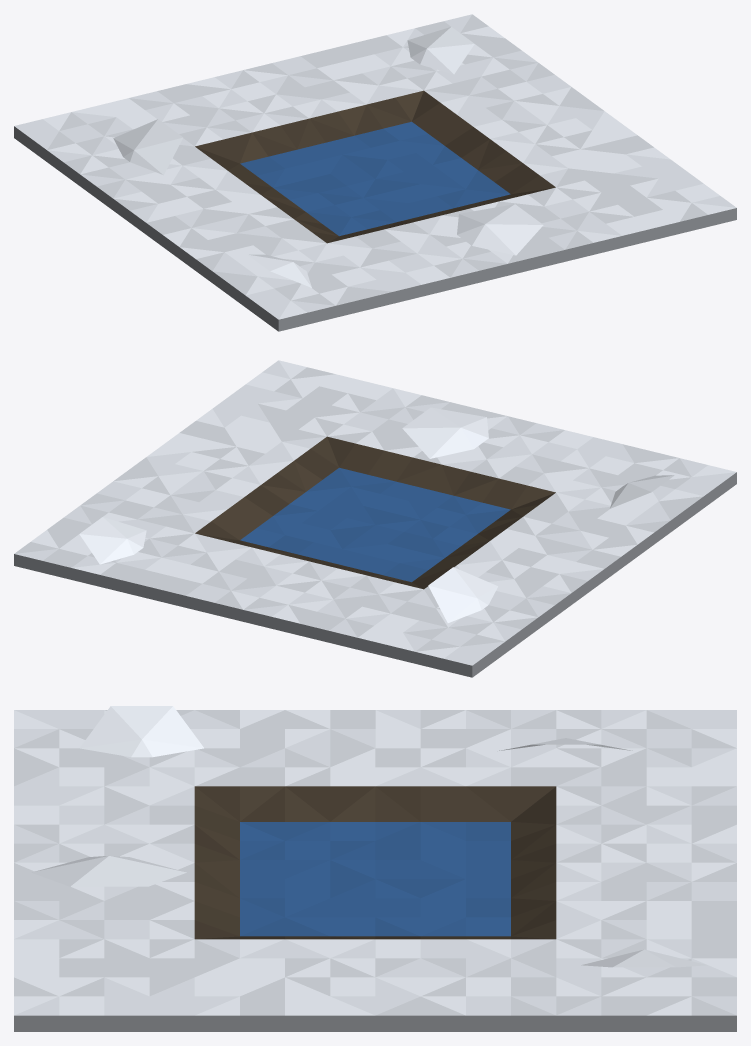
The model's file is river_pool_snow.glb.
3 views of the same model, one above another, from view 1: azimuth 30°, elevation 25°; view 2: azimuth 150°, elevation 25°; view 3: azimuth 270°, elevation 25° (orthographic). The views are drawn at different scales.
Parts seen in each view (by area): view 1: river_pool_snow; view 2: river_pool_snow; view 3: river_pool_snow.
Boxes of the visible parts, box(x1,y1,x2,y2) form: river_pool_snow: box(14, 14, 736, 331); river_pool_snow: box(14, 360, 736, 677); river_pool_snow: box(14, 706, 736, 1031).
Bounding box in the file's own units: 4 × 0.3444 × 4.
